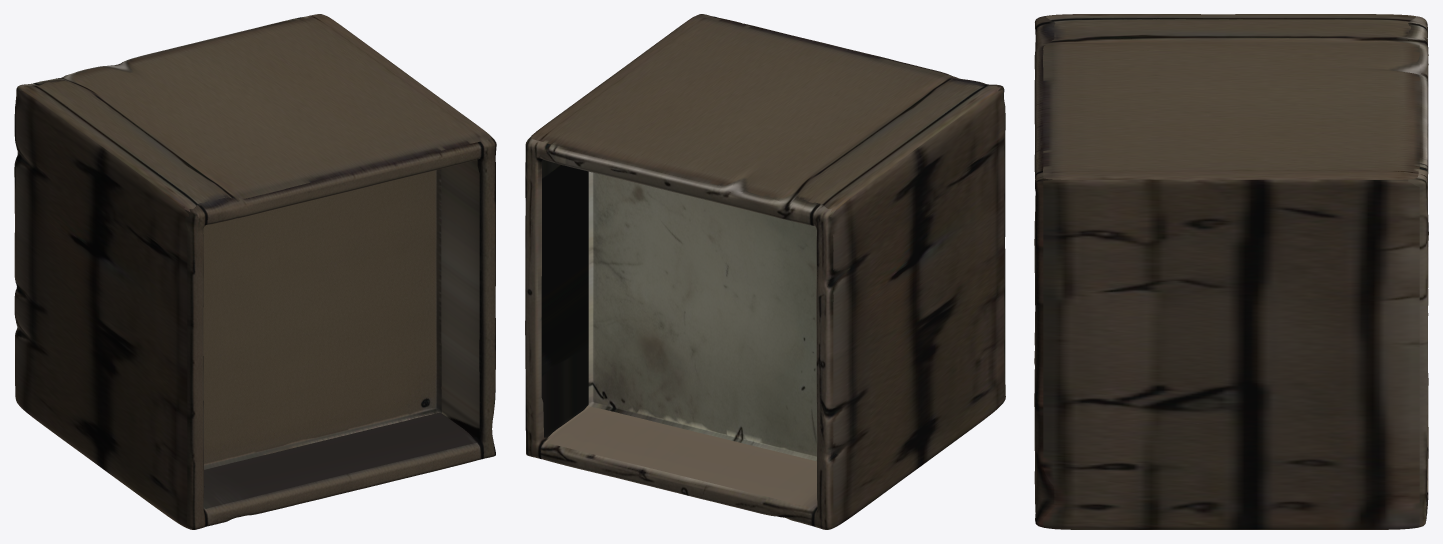
Rendered from shop-sign.glb.
3 views of the same model, side by side, from view 1: azimuth 30°, elevation 25°; view 2: azimuth 150°, elevation 25°; view 3: azimuth 270°, elevation 25° (orthographic). The views are drawn at different scales.
Parts seen in each view (by area): view 1: tmp19keydf6.ply; view 2: tmp19keydf6.ply; view 3: tmp19keydf6.ply.
Boxes of the visible parts, bbox=[...] form: tmp19keydf6.ply: bbox=[14, 14, 496, 529]; tmp19keydf6.ply: bbox=[525, 14, 1005, 529]; tmp19keydf6.ply: bbox=[1034, 14, 1428, 529].
Size of the model in its own units: 1 by 1 by 1.
1 material, 1 textured.
